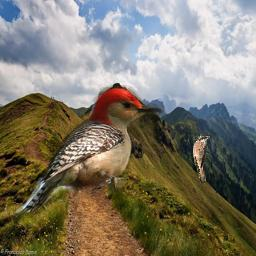Cuckoo: (193, 136, 210, 184)
Woodpecker: (13, 84, 167, 218)
